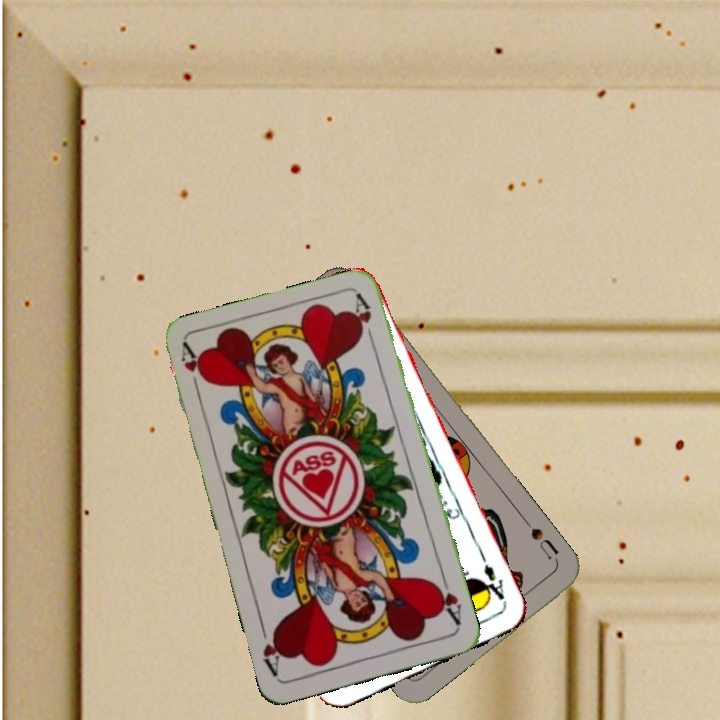EA: (476, 560, 509, 607)
HA: (430, 571, 465, 628), (177, 341, 210, 399)
SU: (520, 516, 562, 562)
